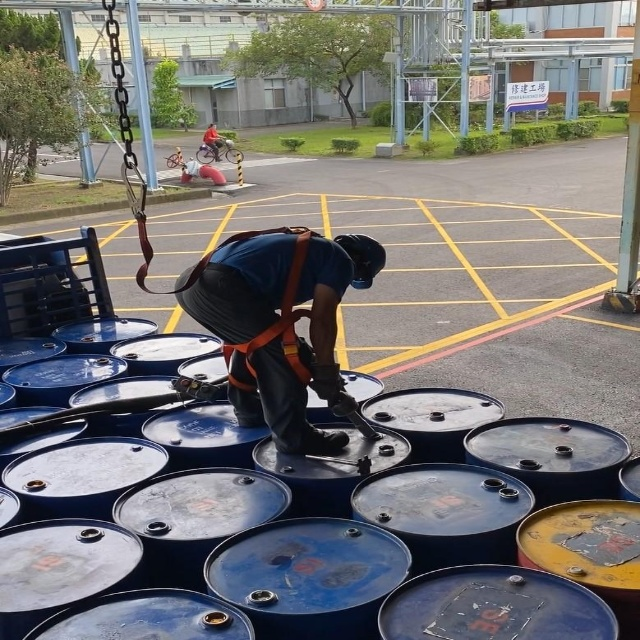Arnes_seguridad: (201, 225, 336, 394)
